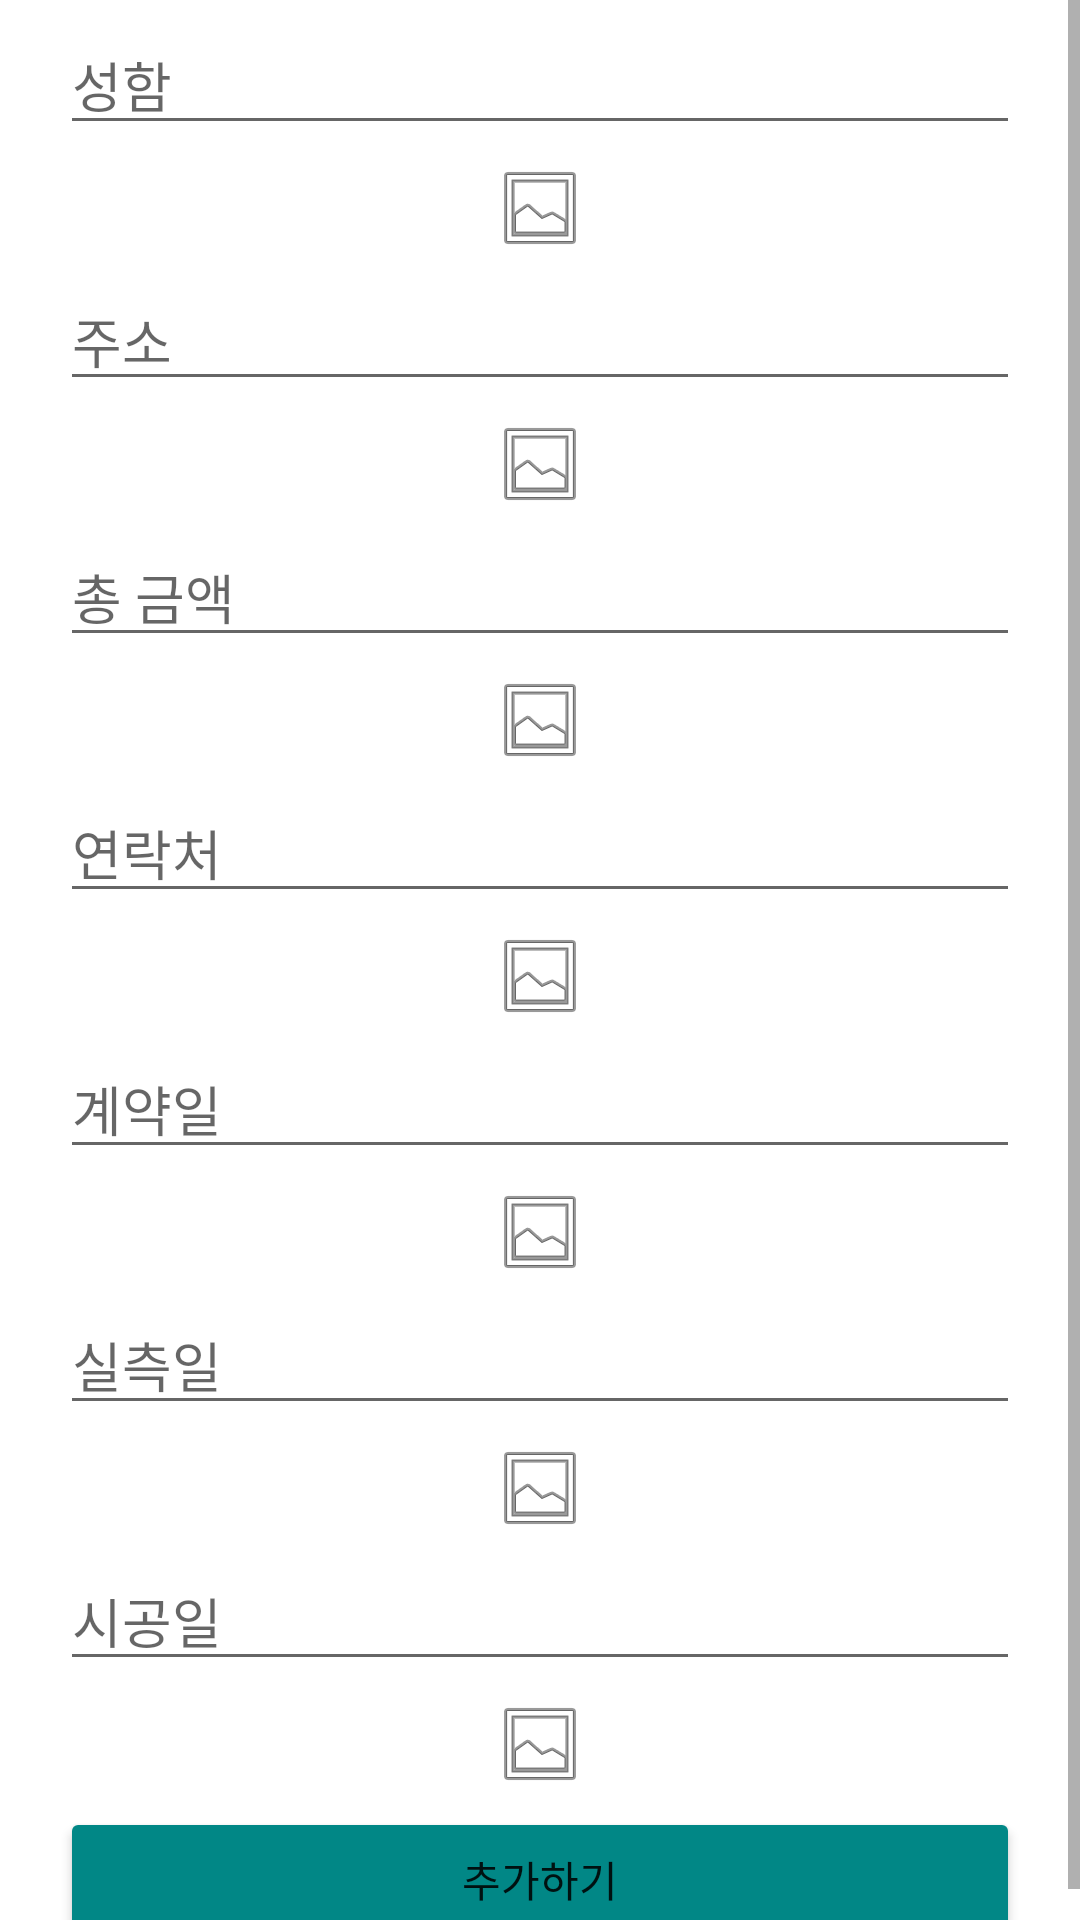

Icons on this 1080*1920 Android screen, each with its box as box=[x1, y1, x2, y2]:
gallery: box=[504, 172, 576, 244], box=[504, 428, 576, 500], box=[504, 684, 576, 756], box=[504, 940, 576, 1012], box=[504, 1196, 576, 1268], box=[504, 1452, 576, 1524], box=[504, 1708, 576, 1780]
